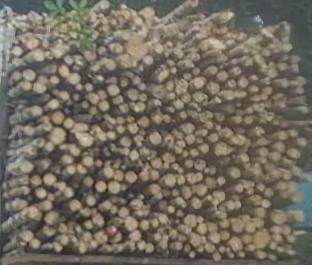large: (125, 35, 147, 59), (253, 229, 270, 249)
medium: (72, 122, 89, 136), (76, 132, 92, 146), (50, 129, 64, 144), (290, 192, 306, 205), (214, 144, 231, 156), (151, 84, 165, 98), (118, 55, 133, 68), (26, 207, 39, 222), (128, 101, 144, 113), (162, 175, 176, 188), (229, 166, 242, 180), (194, 183, 207, 197), (153, 67, 166, 81), (175, 80, 188, 94), (230, 135, 244, 148), (45, 211, 58, 225), (204, 176, 216, 191), (107, 84, 120, 97), (180, 122, 193, 135), (271, 212, 284, 225), (232, 221, 245, 234), (125, 88, 138, 101), (20, 161, 33, 174), (98, 200, 111, 213), (51, 111, 63, 125), (41, 174, 55, 186), (93, 231, 107, 243), (149, 157, 163, 169), (273, 141, 287, 153), (124, 218, 136, 231), (108, 181, 120, 194), (123, 171, 136, 183), (229, 238, 241, 251), (212, 190, 225, 202), (146, 168, 159, 180), (189, 234, 201, 247), (67, 145, 80, 157), (136, 115, 148, 128), (110, 95, 123, 107), (180, 186, 192, 199), (233, 88, 246, 100), (21, 69, 34, 81), (33, 83, 46, 95), (250, 194, 263, 206), (118, 137, 132, 148), (235, 75, 246, 89), (40, 227, 54, 238), (94, 88, 106, 100), (193, 77, 205, 89), (190, 198, 202, 210), (104, 59, 116, 71), (137, 169, 149, 181), (65, 165, 77, 177), (63, 118, 75, 130), (295, 210, 307, 222), (67, 72, 78, 85), (57, 64, 68, 77), (276, 130, 287, 143), (219, 89, 232, 100), (108, 42, 121, 53), (192, 92, 206, 102), (184, 215, 195, 227), (206, 82, 217, 94), (60, 154, 72, 165), (295, 136, 306, 148), (217, 71, 228, 83), (207, 133, 219, 144), (63, 188, 74, 200), (33, 50, 44, 62), (20, 230, 32, 241), (97, 101, 110, 111), (163, 80, 173, 93), (148, 184, 161, 194), (76, 161, 86, 174), (267, 152, 280, 162), (186, 173, 196, 186), (86, 93, 97, 104), (68, 201, 79, 212), (81, 156, 92, 167), (194, 159, 205, 170), (82, 176, 93, 187), (240, 233, 251, 244), (263, 187, 274, 198), (277, 181, 288, 192), (126, 124, 136, 136), (138, 219, 150, 229), (288, 149, 300, 159), (84, 193, 94, 205), (163, 152, 175, 162), (143, 7, 153, 19), (54, 182, 64, 194), (150, 132, 160, 143), (94, 182, 105, 192), (102, 168, 112, 179), (112, 170, 122, 181), (197, 144, 208, 154), (196, 224, 207, 234), (117, 103, 128, 113), (47, 100, 58, 110), (215, 176, 225, 187), (251, 218, 262, 228), (129, 230, 140, 240), (218, 229, 228, 240), (35, 188, 46, 198), (204, 243, 215, 253), (278, 189, 289, 199), (287, 182, 298, 192), (29, 238, 40, 248), (94, 134, 105, 144), (220, 128, 231, 138), (21, 82, 32, 92), (131, 201, 143, 210), (209, 232, 219, 242), (172, 100, 182, 110), (206, 66, 216, 76), (30, 175, 40, 185), (82, 220, 92, 230), (119, 206, 129, 216), (137, 240, 146, 251), (245, 223, 255, 232), (41, 201, 51, 210), (256, 208, 265, 218), (153, 44, 162, 54), (176, 175, 185, 185), (99, 0, 109, 9), (145, 244, 154, 254), (280, 225, 290, 234), (280, 79, 289, 89), (12, 46, 22, 55), (31, 106, 40, 115), (143, 56, 152, 65), (59, 91, 68, 100), (276, 62, 285, 71), (129, 150, 137, 160), (272, 224, 280, 234), (258, 147, 266, 156), (283, 42, 291, 51), (35, 138, 43, 147), (208, 223, 216, 231), (267, 68, 275, 76), (221, 219, 228, 228), (239, 154, 246, 162), (291, 54, 298, 62)
small: (138, 83, 147, 92), (179, 113, 188, 121), (138, 129, 147, 137), (175, 141, 184, 149), (188, 252, 196, 260), (236, 251, 244, 259), (163, 115, 171, 123), (150, 219, 158, 227), (89, 107, 97, 115), (58, 224, 66, 232), (45, 143, 53, 151), (107, 131, 115, 139), (262, 200, 271, 207), (137, 95, 145, 102), (153, 115, 160, 123), (175, 210, 182, 218), (168, 206, 175, 214), (168, 93, 176, 100), (111, 208, 118, 216), (175, 146, 182, 154), (229, 80, 236, 88), (184, 243, 191, 251), (234, 117, 242, 124), (126, 194, 133, 201), (177, 166, 184, 173), (94, 162, 101, 169), (126, 115, 133, 122), (133, 77, 140, 84), (120, 80, 127, 87), (195, 174, 202, 181), (181, 152, 188, 159), (80, 103, 87, 110), (183, 74, 190, 81), (214, 98, 221, 105), (50, 77, 57, 84), (219, 246, 226, 253), (237, 185, 244, 192), (264, 87, 271, 94), (162, 162, 169, 169), (191, 149, 198, 156), (185, 160, 192, 167), (116, 116, 122, 124), (85, 85, 91, 93), (75, 85, 81, 93), (233, 68, 239, 76), (227, 201, 233, 209), (288, 235, 294, 243), (207, 121, 213, 129), (282, 54, 290, 60), (171, 163, 177, 170), (116, 127, 122, 134), (196, 138, 202, 145), (72, 95, 78, 102), (203, 168, 209, 175), (209, 167, 215, 174), (153, 233, 159, 240), (175, 242, 181, 249), (244, 117, 251, 123), (257, 252, 264, 258), (274, 235, 280, 242), (216, 113, 222, 120), (178, 234, 185, 240), (48, 195, 54, 201), (250, 76, 256, 82), (234, 202, 240, 208), (213, 254, 219, 260), (201, 129, 207, 135), (90, 242, 95, 249), (171, 68, 176, 74), (75, 226, 80, 232), (235, 103, 240, 109), (214, 125, 219, 131), (194, 69, 199, 75), (247, 244, 252, 250), (260, 95, 265, 100), (52, 90, 57, 95), (270, 244, 275, 249), (277, 247, 282, 252), (264, 79, 269, 84), (229, 254, 233, 259), (273, 121, 277, 126)
